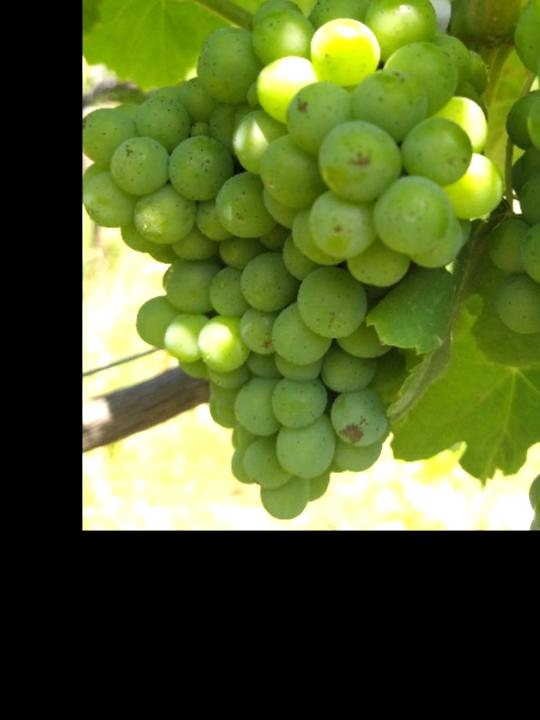grape: (80, 0, 503, 520)
